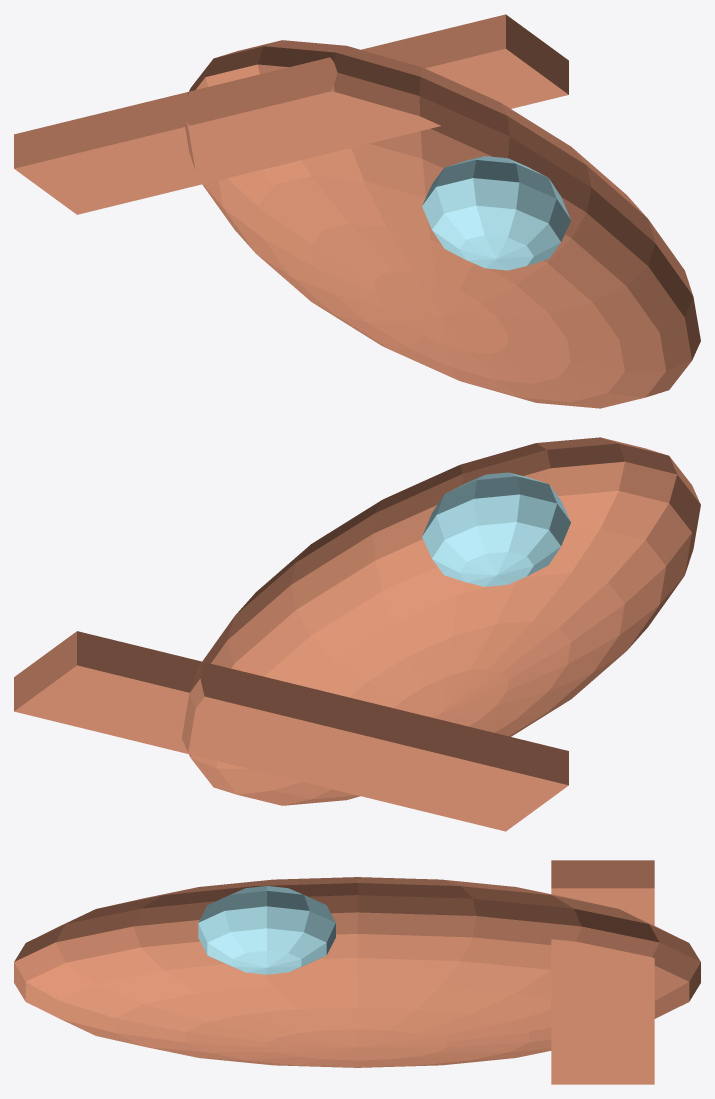
The model's file is hull.glb.
The picture shows the model from 3 angles, top to bottom: view 1: azimuth 30°, elevation 25°; view 2: azimuth 150°, elevation 25°; view 3: azimuth 270°, elevation 25°; orthographic projection. The views are drawn at different scales.
Parts seen in each view (by area): view 1: hull; view 2: hull; view 3: hull.
Part boxes in pixels (x1,y1,x2,y2): hull: (14,14,700,408); hull: (14,437,700,831); hull: (14,860,700,1084).
Bounding box in the file's own units: 1.8 × 0.66 × 2.66.
